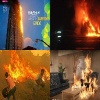fire: (3, 50, 50, 82), (71, 54, 99, 99), (82, 12, 100, 37), (19, 5, 24, 39)
